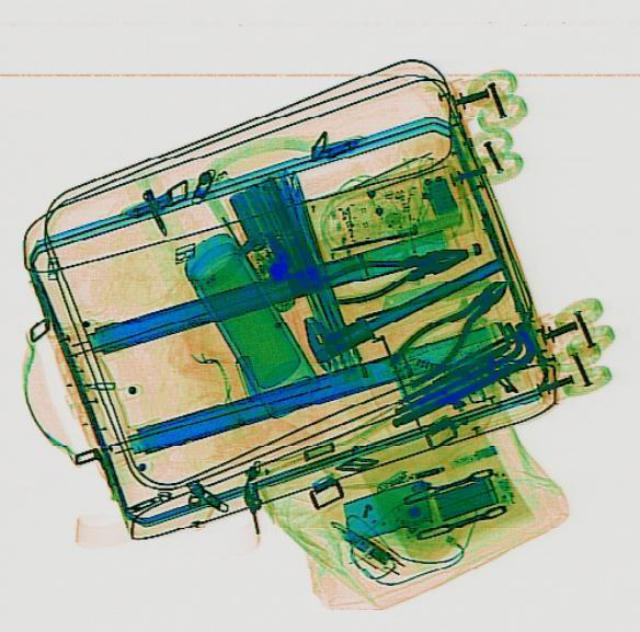Pliers: (380, 263, 522, 389), (312, 232, 473, 309)
